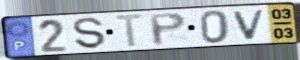0: (198, 9, 230, 45)
2: (37, 18, 71, 53)
P: (147, 11, 188, 47)
S: (72, 17, 108, 51)
T: (113, 13, 148, 50)
V: (231, 8, 269, 41)
